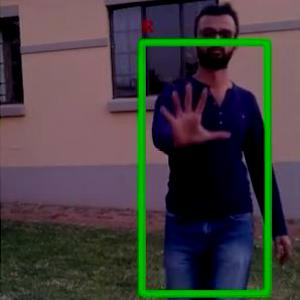follow_hand: (155, 79, 234, 149)
